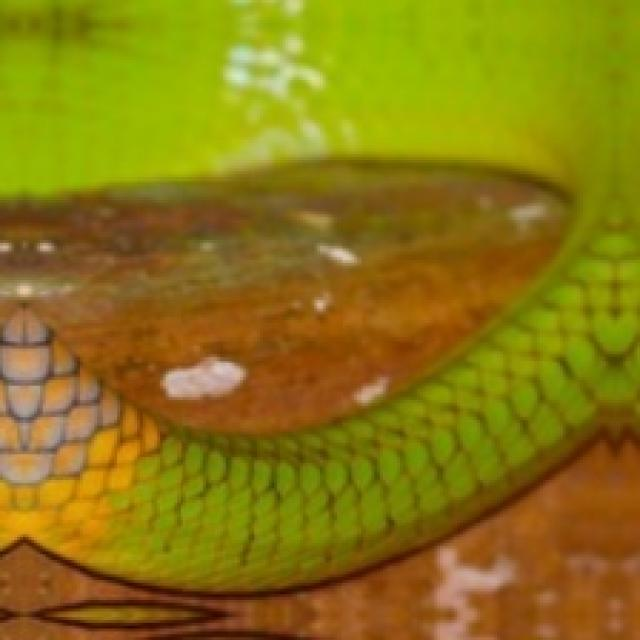red-tailed green ratsnake: (0, 0, 640, 588)
